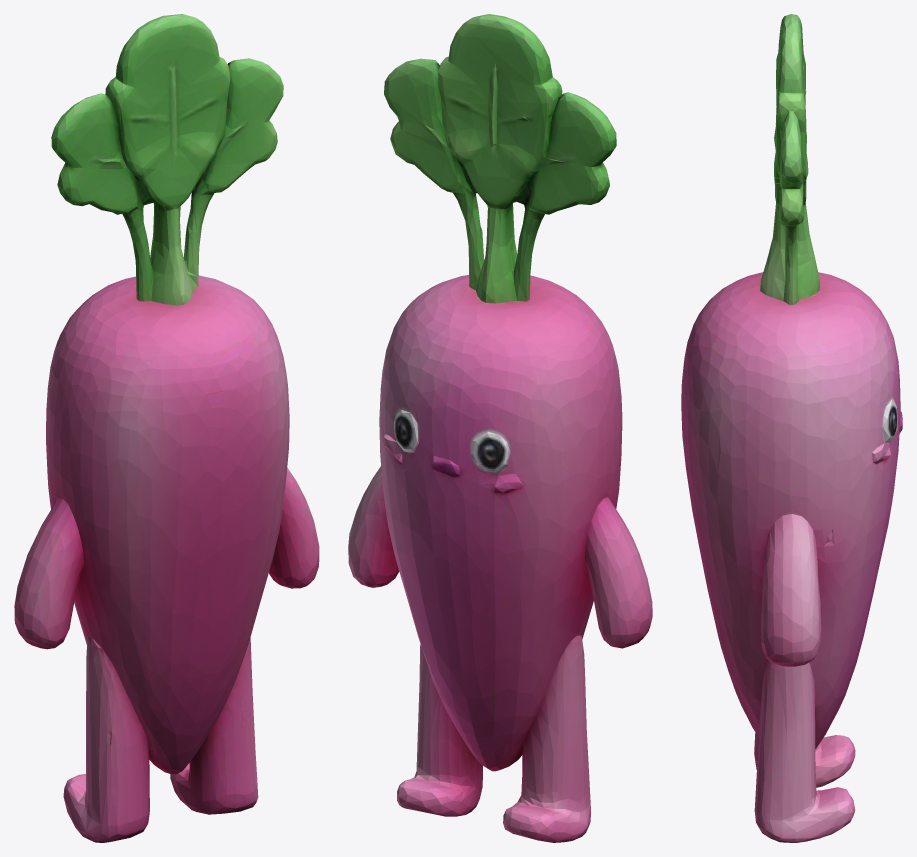
File: havuc.glb
The picture shows the model from 3 angles, left to right: view 1: azimuth 30°, elevation 25°; view 2: azimuth 150°, elevation 25°; view 3: azimuth 270°, elevation 25°; orthographic projection. The views are drawn at different scales.
Visible parts, largest first — view 1: world; view 2: world; view 3: world.
Boxes of the visible parts, x1,y1,x2,y2 form: world: (14, 14, 319, 842); world: (348, 14, 652, 842); world: (681, 14, 902, 842).
Bounding box in the file's own units: 0.3882 × 1 × 0.2563.
1 material, 1 textured.
